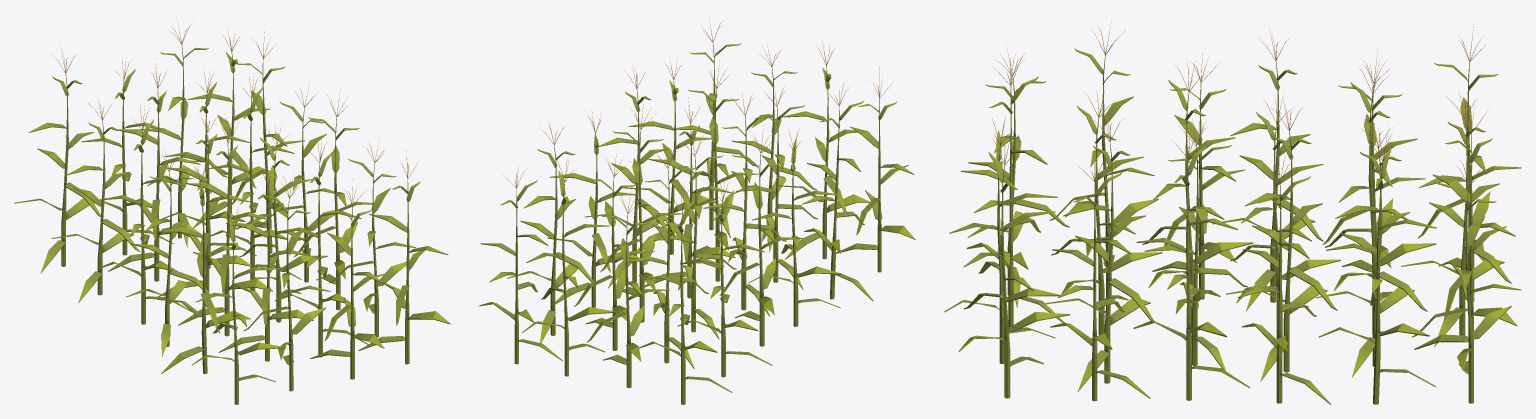
File: dE73diXi82k.glb
The picture shows the model from 3 angles, left to right: view 1: azimuth 30°, elevation 25°; view 2: azimuth 150°, elevation 25°; view 3: azimuth 270°, elevation 25°; orthographic projection. The views are drawn at different scales.
Visible parts, largest first — view 1: FieldOfCorn_mesh; view 2: FieldOfCorn_mesh; view 3: FieldOfCorn_mesh.
Part boxes in pixels (<box>): FieldOfCorn_mesh: <box>14,23,450,404</box>; FieldOfCorn_mesh: <box>479,22,915,404</box>; FieldOfCorn_mesh: <box>944,21,1521,404</box>.
Bounding box in the file's own units: 1.16 × 1 × 1.78.
1 material, 1 textured.
